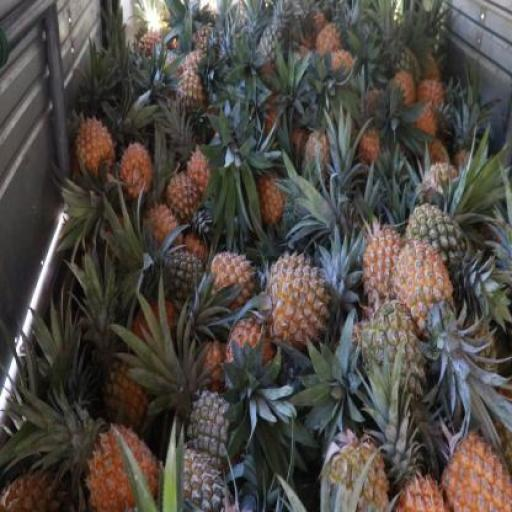------------------------------: (364, 305, 432, 406), (408, 205, 472, 303), (105, 358, 156, 433), (176, 68, 208, 126)
Pineapple - v8 v1: (88, 424, 164, 511), (393, 246, 456, 348), (268, 256, 331, 352), (364, 233, 414, 321), (228, 320, 274, 399), (212, 251, 256, 307), (77, 116, 117, 177), (170, 168, 208, 215), (122, 139, 152, 198)
